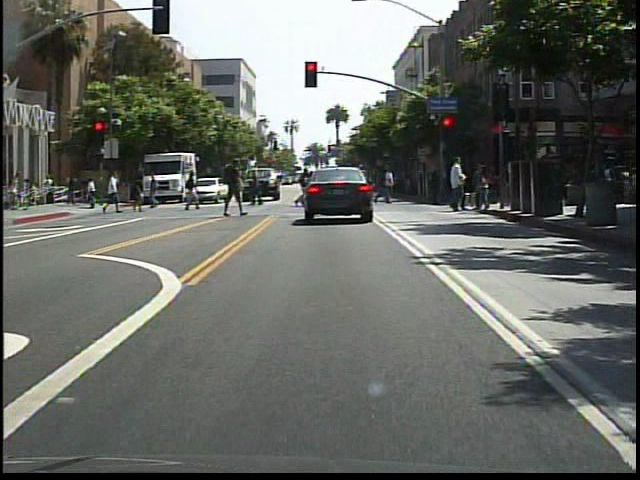person: (220, 155, 249, 223), (441, 154, 474, 213), (351, 165, 374, 218), (102, 170, 125, 215), (182, 168, 204, 213), (146, 171, 163, 212), (132, 171, 147, 216), (249, 168, 266, 207)
